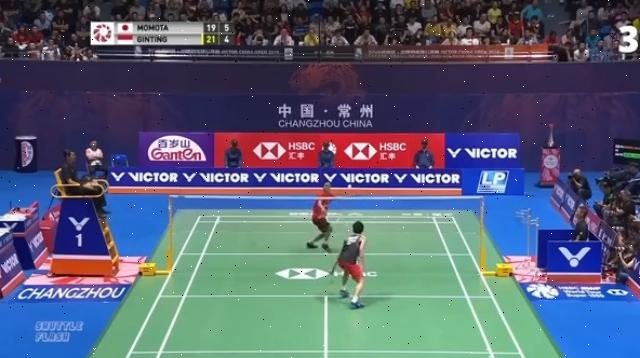Shuttlecock: (347, 183, 357, 193)
